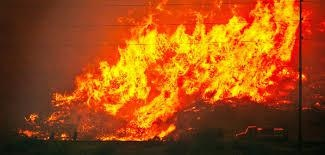fire: (26, 0, 325, 143)
